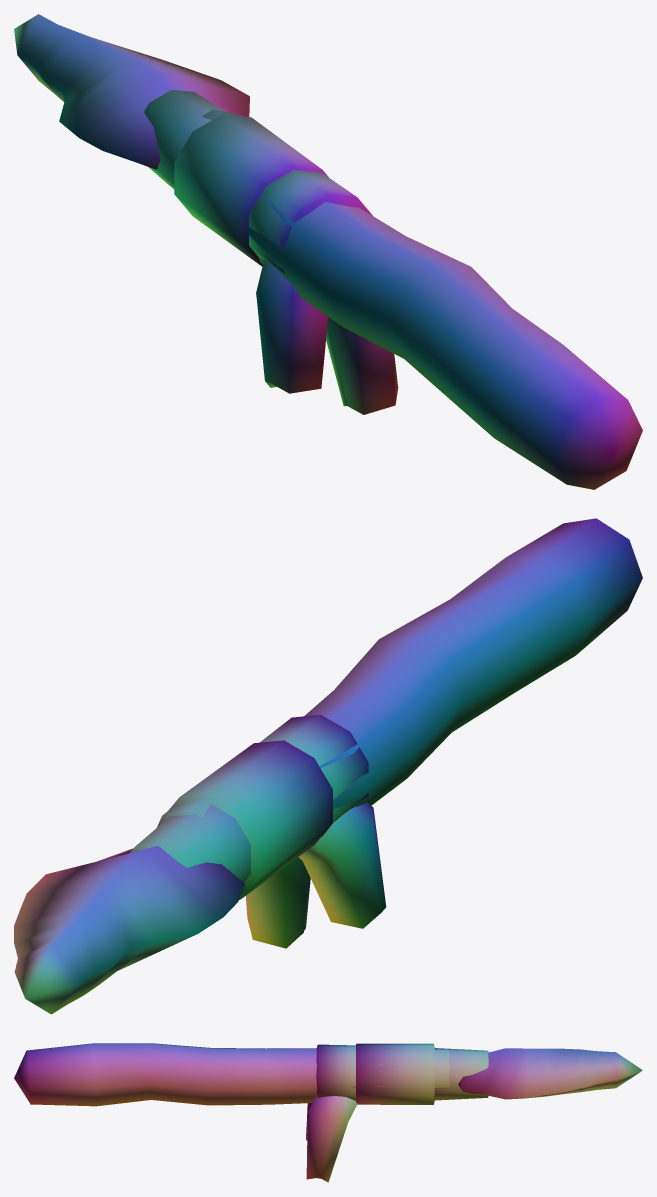
File: SM_MonWeapon_LashedSpear.fbx
The picture shows the model from 3 angles, top to bottom: view 1: azimuth 30°, elevation 25°; view 2: azimuth 150°, elevation 25°; view 3: azimuth 270°, elevation 25°; orthographic projection. The views are drawn at different scales.
Visible parts, largest first — view 1: SM_MonWeapon_LashedSpear; view 2: SM_MonWeapon_LashedSpear; view 3: SM_MonWeapon_LashedSpear.
Part boxes in pixels (bbox=[...]): SM_MonWeapon_LashedSpear: bbox=[14, 14, 642, 489]; SM_MonWeapon_LashedSpear: bbox=[14, 518, 642, 1014]; SM_MonWeapon_LashedSpear: bbox=[14, 1043, 642, 1182].
Bounding box in the file's own units: 0.0985 × 0.1257 × 0.5793.
